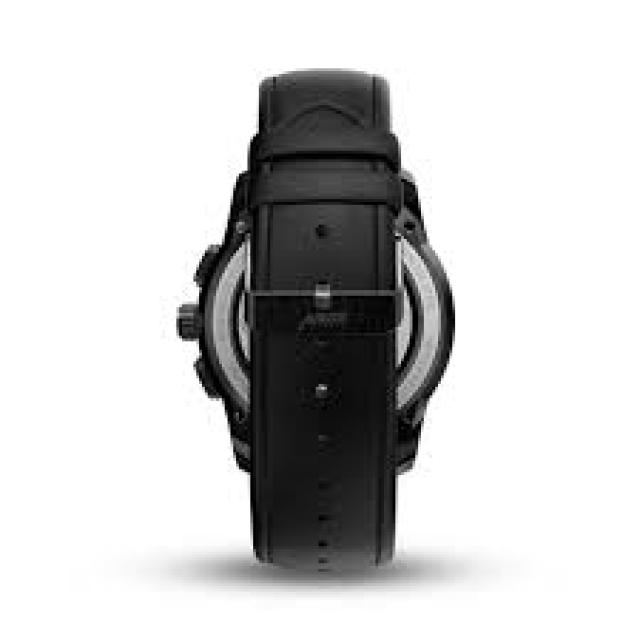objects: (176, 68, 452, 571)
